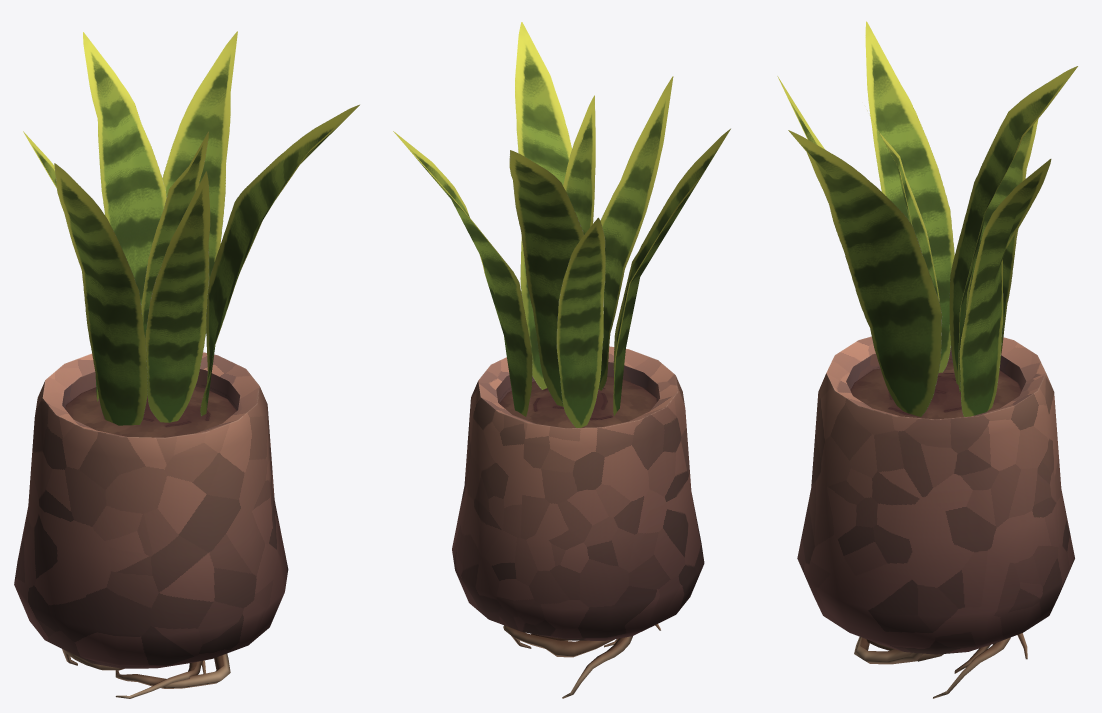
Rendered from MDL_SnakeRootCheck.fbx.
3 renders of one model, left to right at view 1: azimuth 30°, elevation 25°; view 2: azimuth 150°, elevation 25°; view 3: azimuth 270°, elevation 25°, orthographic. The views are drawn at different scales.
Parts seen in each view (by area): view 1: MDL_OrchidRootCheck.001; view 2: MDL_OrchidRootCheck.001; view 3: MDL_OrchidRootCheck.001.
Boxes of the visible parts, x1,y1,x2,y2 form: MDL_OrchidRootCheck.001: (14,31,359,698); MDL_OrchidRootCheck.001: (393,22,730,698); MDL_OrchidRootCheck.001: (777,21,1077,698).
Size of the model in its own units: 44.52 by 88.99 by 42.24.
